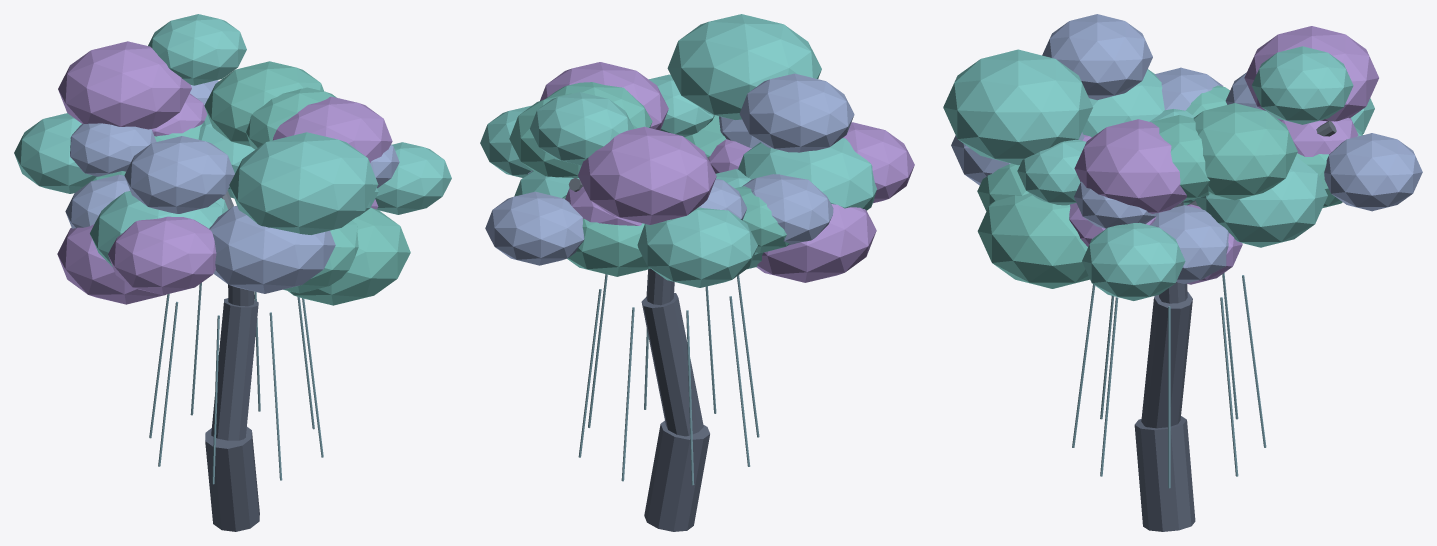
The model's file is hexcore_living_tree_05.glb.
3 views of the same model, side by side, from view 1: azimuth 30°, elevation 25°; view 2: azimuth 150°, elevation 25°; view 3: azimuth 270°, elevation 25° (orthographic). The views are drawn at different scales.
Parts seen in each view (by area): view 1: world; view 2: world; view 3: world.
Boxes of the visible parts, box(x1,y1,x2,y2) form: world: box(14, 14, 451, 531); world: box(480, 14, 914, 531); world: box(943, 14, 1422, 531).
Size of the model in its own units: 22.08 by 25.39 by 22.74.
